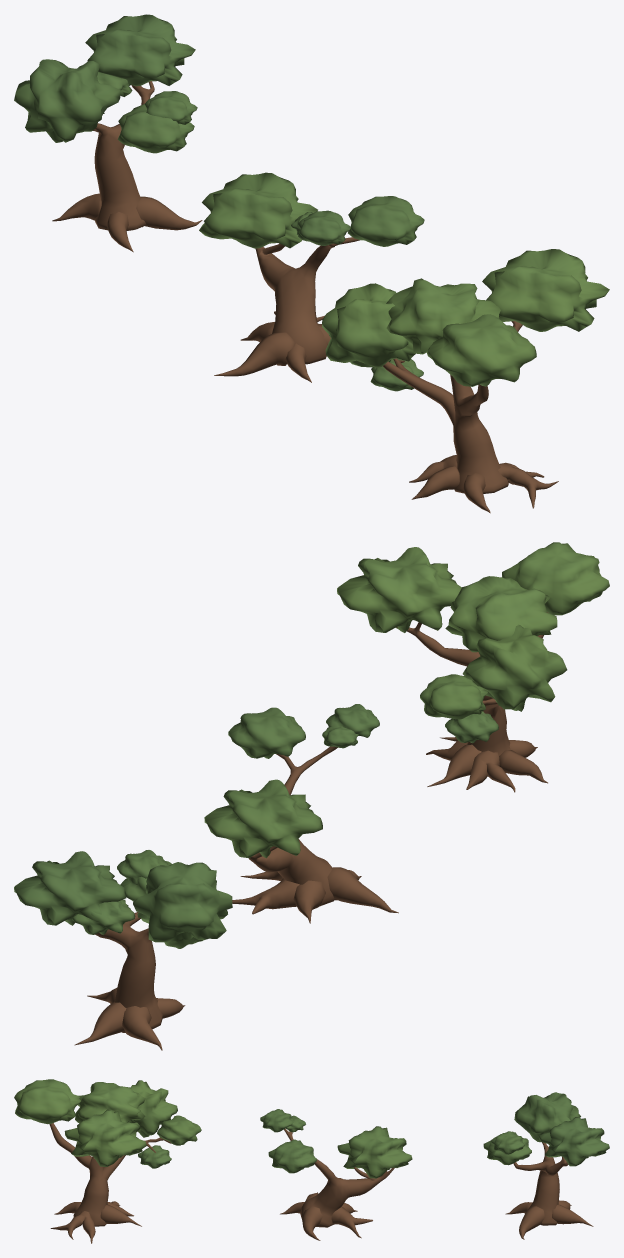
File: Map3_bo1.fbx
3 renders of one model, top to bottom at view 1: azimuth 30°, elevation 25°; view 2: azimuth 150°, elevation 25°; view 3: azimuth 270°, elevation 25°, orthographic. The views are drawn at different scales.
Parts seen in each view (by area): view 1: Tree.008, Tree.014, Tree.009; view 2: Tree.008, Tree.014, Tree.009; view 3: Tree.008, Tree.014, Tree.009.
Boxes of the visible parts, x1,y1,x2,y2 form: Tree.008: (322, 249, 609, 513); Tree.014: (14, 14, 202, 252); Tree.009: (199, 172, 424, 382); Tree.008: (337, 542, 609, 792); Tree.014: (14, 850, 232, 1050); Tree.009: (204, 704, 398, 923); Tree.008: (14, 1079, 201, 1243); Tree.014: (483, 1092, 609, 1239); Tree.009: (260, 1109, 412, 1240).
Bounding box in the file's own units: 388 × 316 × 1321.
Materials: 1 (1 with a texture image).
